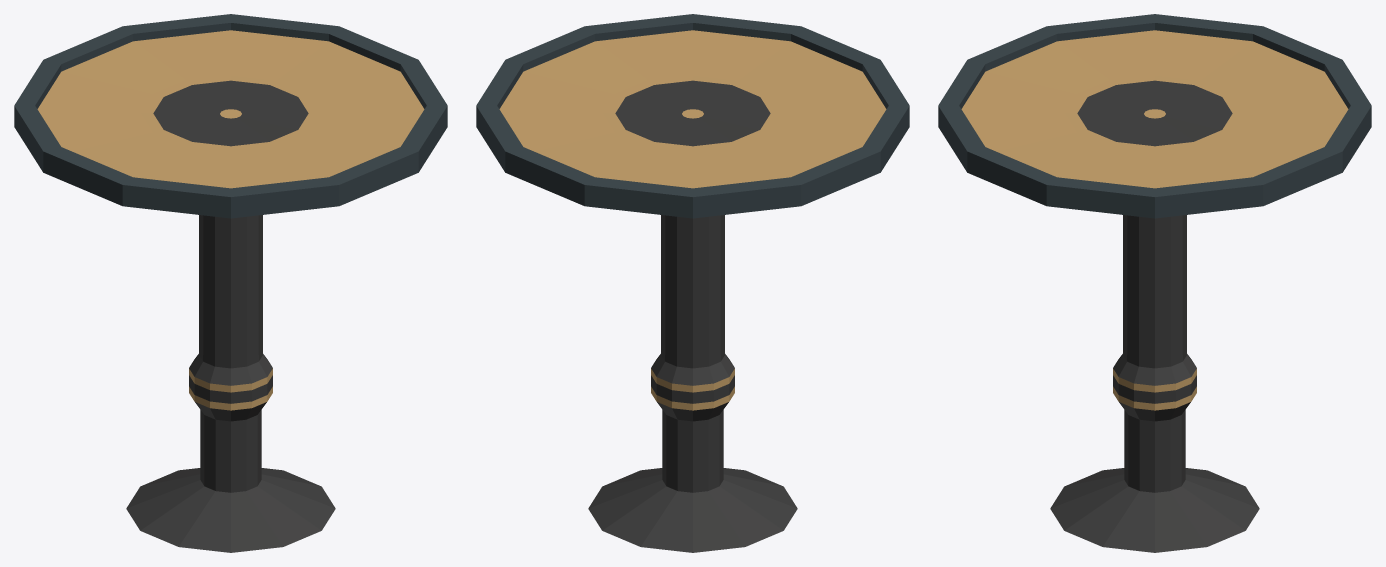
Rendered from CoffeeTable.fbx.
3 renders of one model, left to right at view 1: azimuth 30°, elevation 25°; view 2: azimuth 150°, elevation 25°; view 3: azimuth 270°, elevation 25°, orthographic.
Visible parts, largest first — view 1: CoffeeTable; view 2: CoffeeTable; view 3: CoffeeTable.
Part boxes in pixels (left/top/right/bottom): CoffeeTable: left=14, top=14, right=447, bottom=552; CoffeeTable: left=476, top=14, right=909, bottom=552; CoffeeTable: left=938, top=14, right=1371, bottom=552.
Bounding box in the file's own units: 63.65 × 65.3 × 63.65.
